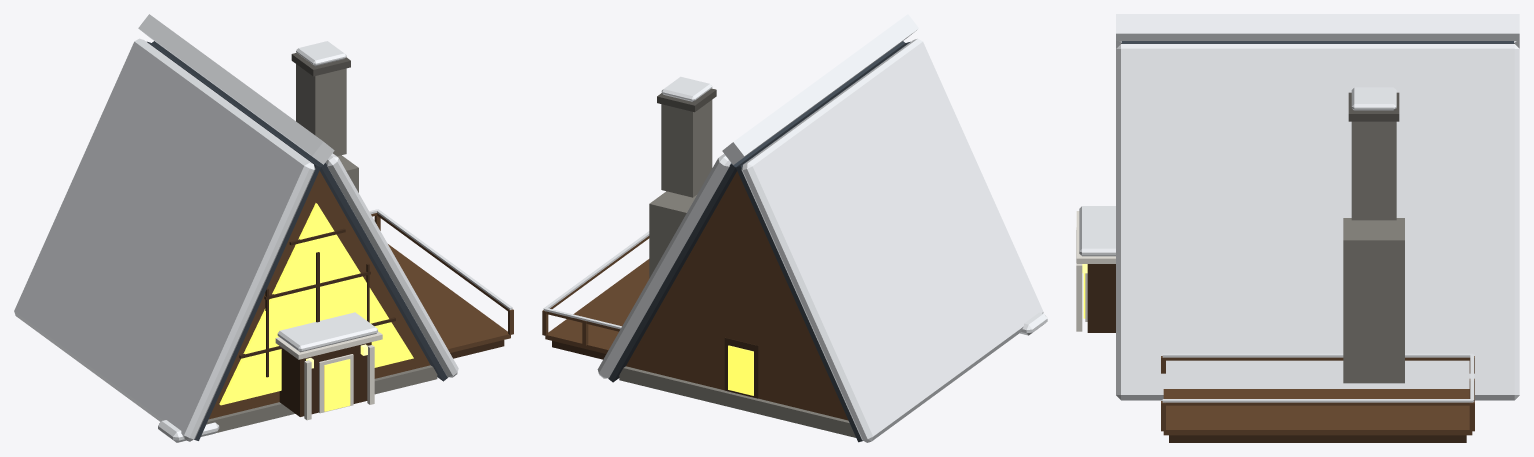
Rendered from a-frame-lodge.glb.
The picture shows the model from 3 angles, left to right: view 1: azimuth 30°, elevation 25°; view 2: azimuth 150°, elevation 25°; view 3: azimuth 270°, elevation 25°; orthographic projection. The views are drawn at different scales.
Visible parts, largest first — view 1: a-frame-lodge; view 2: a-frame-lodge; view 3: a-frame-lodge.
Part boxes in pixels (box(x1,y1,x2,y2)): a-frame-lodge: box(14, 14, 513, 442); a-frame-lodge: box(542, 14, 1047, 442); a-frame-lodge: box(1076, 14, 1519, 442).
Bounding box in the file's own units: 16.89 × 12.36 × 15.8.
